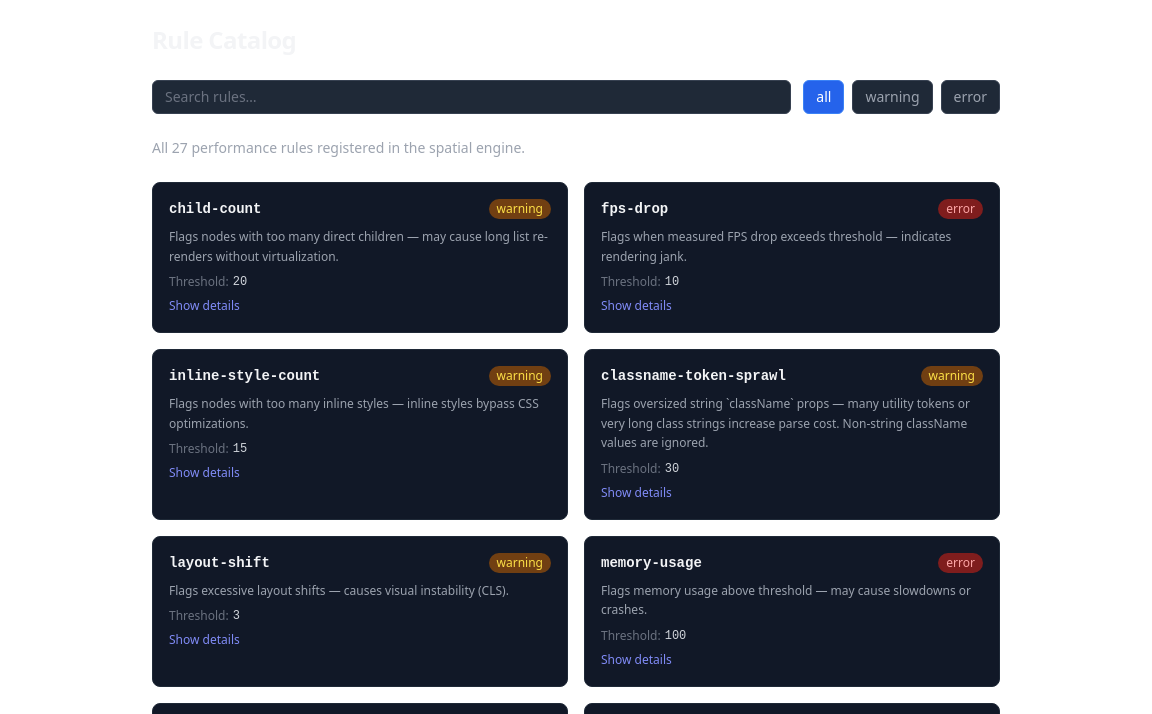
Scenario: D10: Rule catalog search › restores all rule cards when search is cleared
Step 1. Type "fps" into the field labelled "Search rules…" → (472, 97), box top-left (152, 80), bottom-right (791, 114)
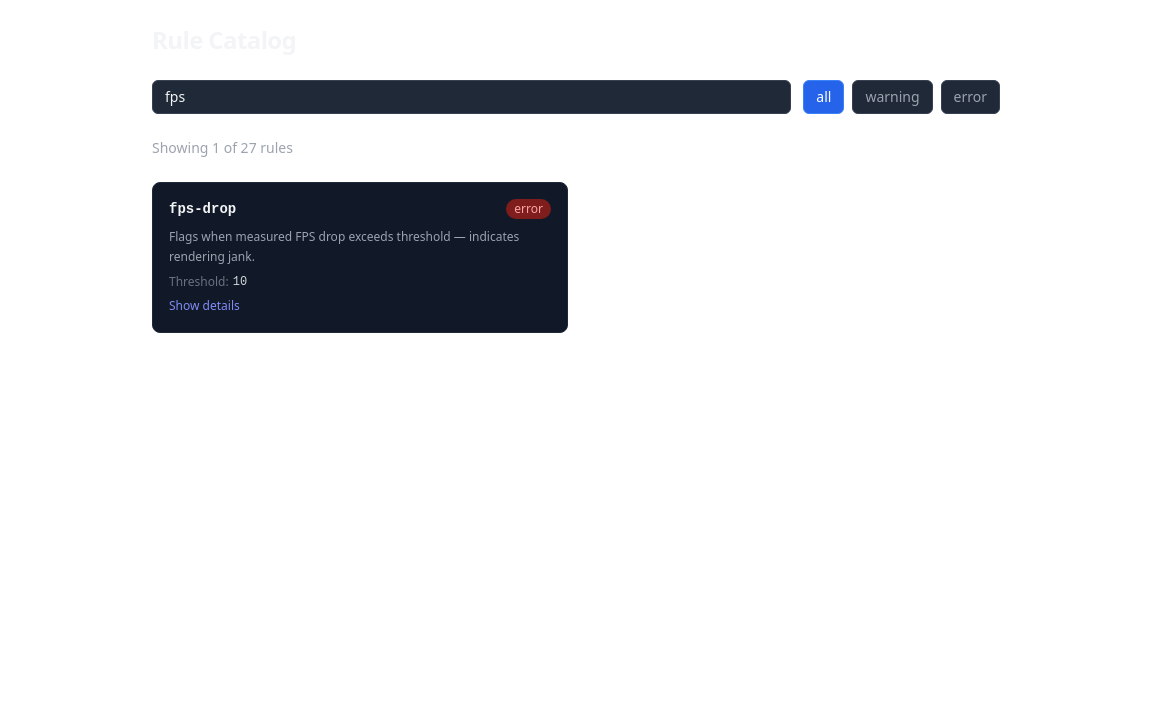
Step 2. Clear the field named "Search" → (472, 97), box top-left (152, 80), bottom-right (791, 114)
(page scrolled)
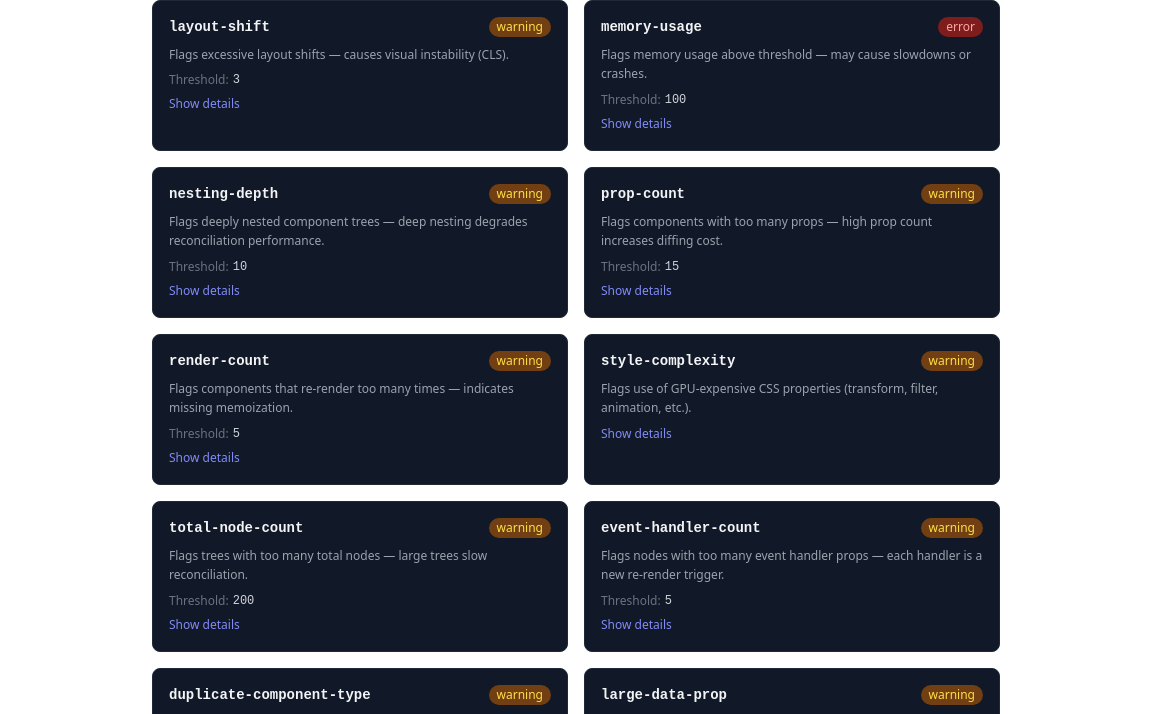
Check: the heading "render-count" is shown, box top-left (169, 350), bottom-right (270, 370)
